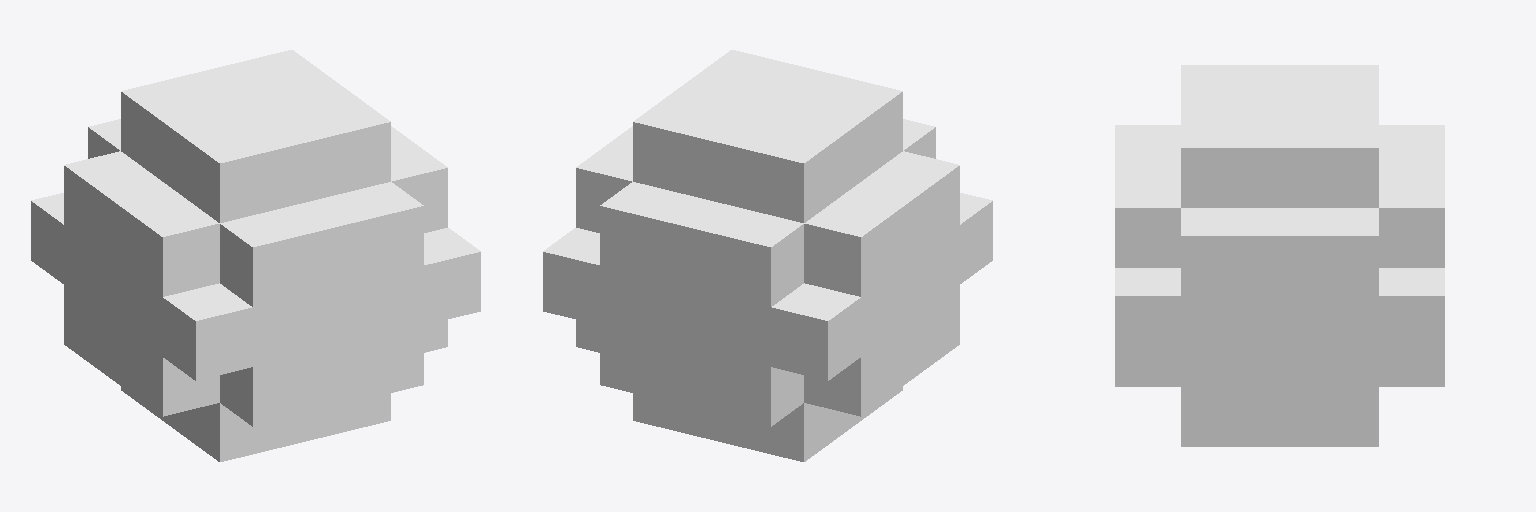
Rendered from Monster_bullet_Ver2.obj.
3 renders of one model, left to right at view 1: azimuth 30°, elevation 25°; view 2: azimuth 150°, elevation 25°; view 3: azimuth 270°, elevation 25°, orthographic.
Visible parts, largest first — view 1: object 1; view 2: object 1; view 3: object 1.
Part boxes in pixels (left/top/right/bottom): object 1: left=31, top=50, right=480, bottom=461; object 1: left=543, top=50, right=992, bottom=461; object 1: left=1115, top=65, right=1444, bottom=446.
Bounding box in the file's own units: 0.5 × 0.5 × 0.5.